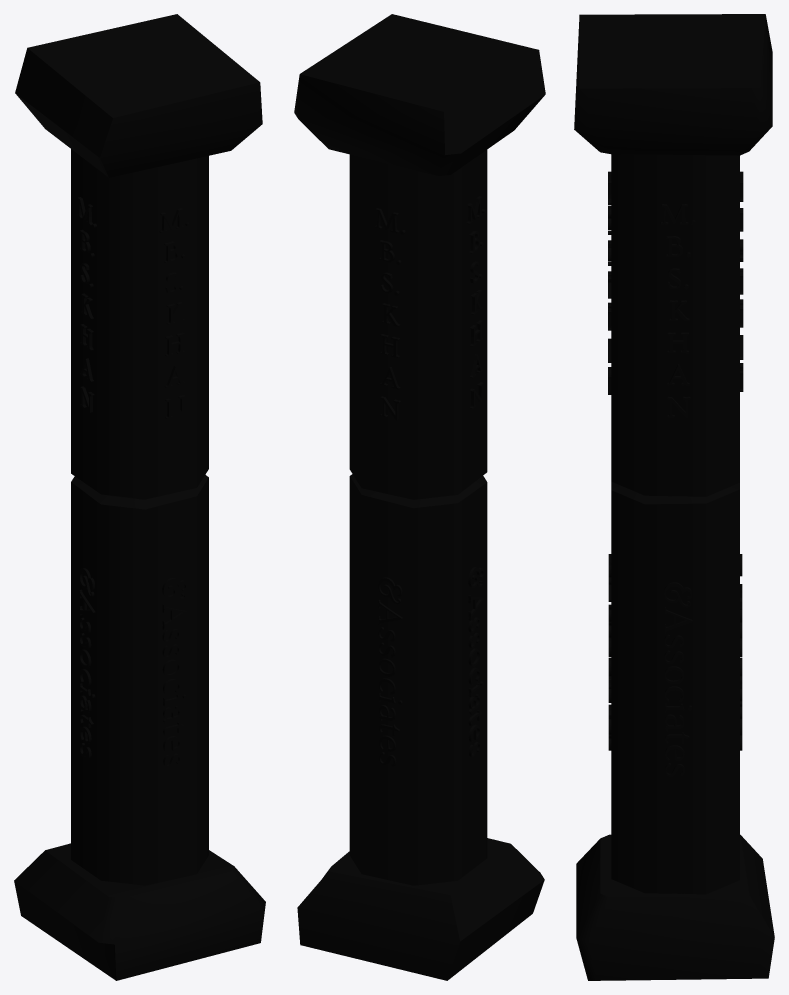
Rendered from pillarmk5.glb.
3 renders of one model, left to right at view 1: azimuth 30°, elevation 25°; view 2: azimuth 150°, elevation 25°; view 3: azimuth 270°, elevation 25°, orthographic. The views are drawn at different scales.
Parts seen in each view (by area): view 1: node_id8, mesh_id307, mesh_id339; view 2: node_id8, mesh_id355, mesh_id339; view 3: node_id8, mesh_id383, mesh_id307, mesh_id355.
Part boxes in pixels (<box>): node_id8: <box>14,14,265,980</box>; mesh_id307: <box>162,578,187,768</box>; mesh_id339: <box>79,568,95,758</box>; node_id8: <box>294,14,545,980</box>; mesh_id355: <box>377,577,402,766</box>; mesh_id339: <box>468,567,484,757</box>; node_id8: <box>574,14,774,980</box>; mesh_id383: <box>664,582,692,776</box>; mesh_id307: <box>608,554,611,750</box>; mesh_id355: <box>740,554,742,750</box>.
Bounding box in the file's own units: 0.1032 × 0.512 × 0.1043.
33 materials, 33 textured.
